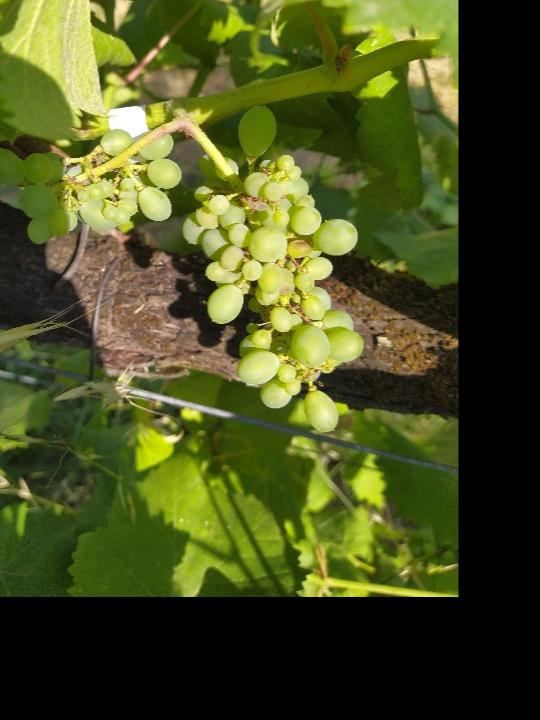grape: (0, 102, 370, 443)
